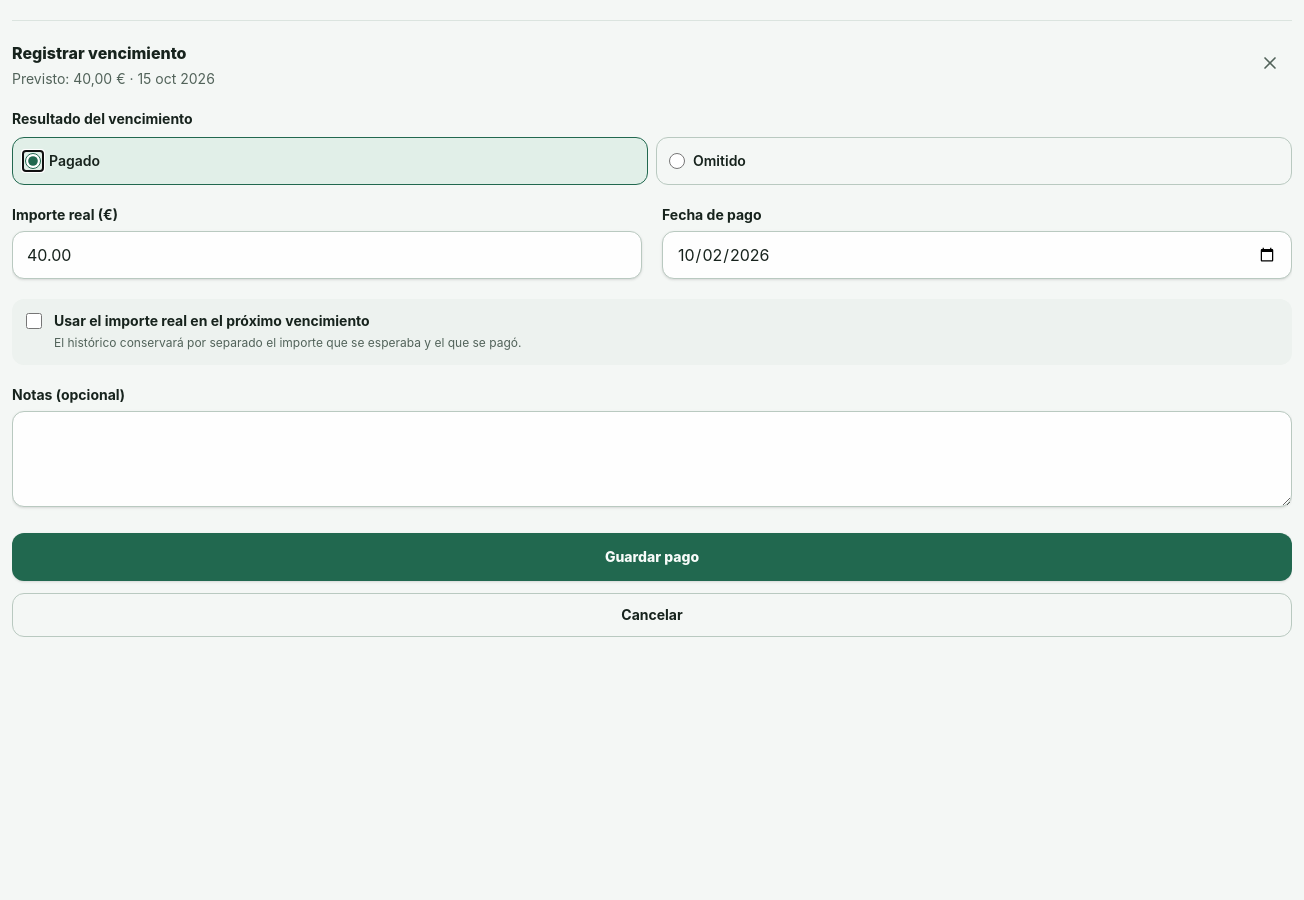
Test: PaymentOccurrenceForm shared creation and historical correction › keeps retryable errors visible without closing or claiming success
Step 1. Click the button "Guardar pago" → (652,557), box [12,533,1292,581]
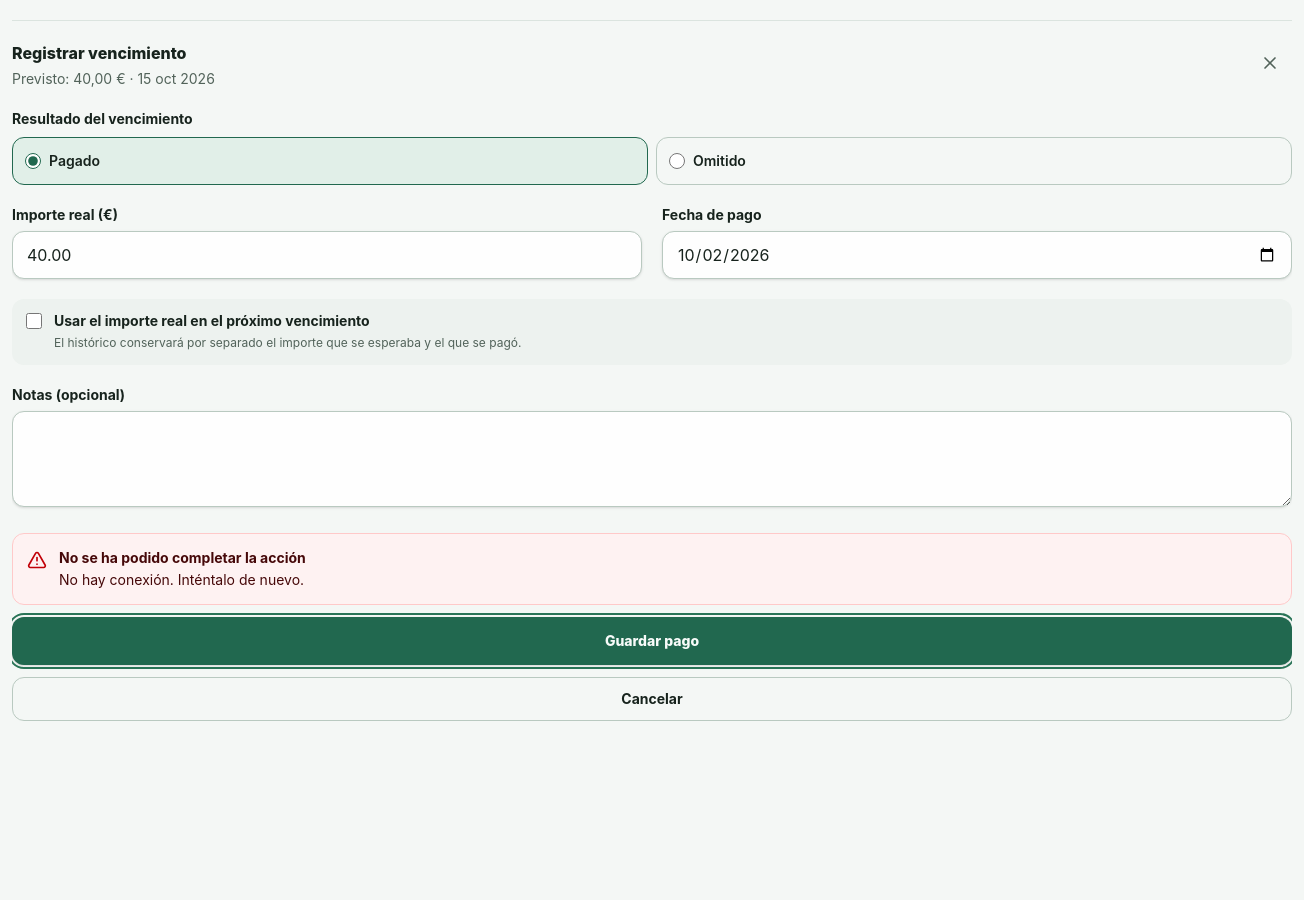
Check: the button "Guardar pago" is enabled, box [12,617,1292,665]
Check: the message shows "No hay conexión. Inténtalo de nuevo.", box [59,571,304,588]
